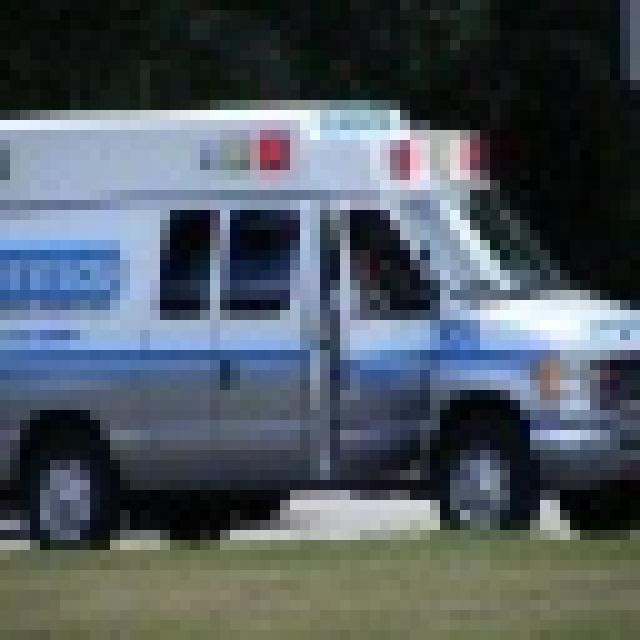Ambulance: (0, 90, 630, 540)
